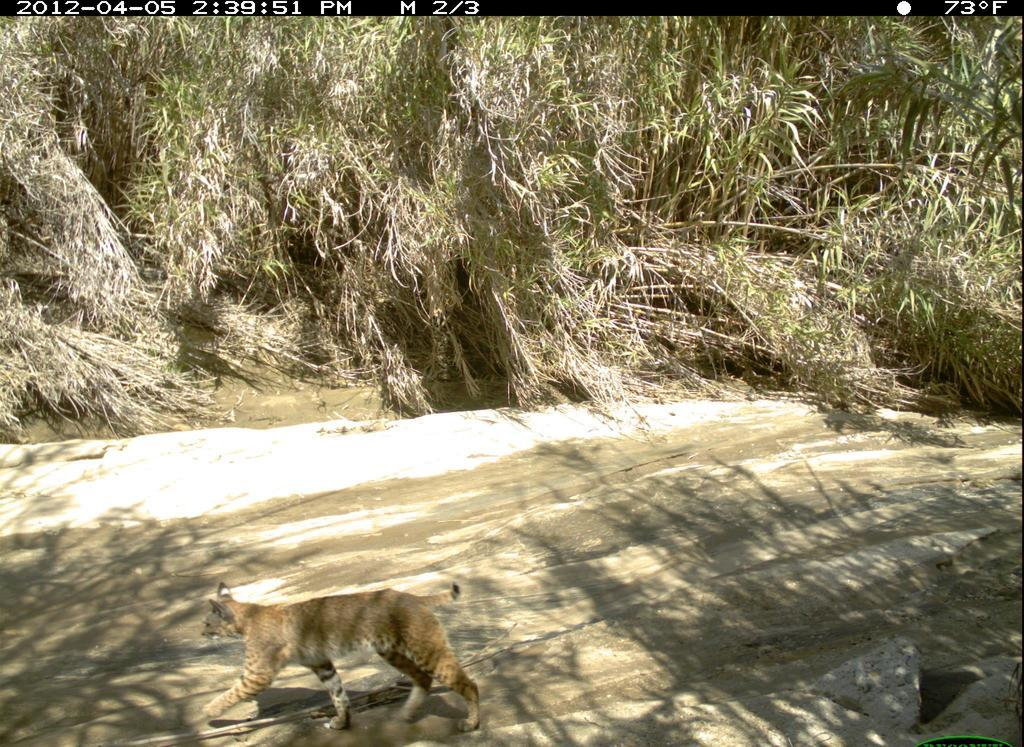bobcat: (196, 570, 492, 739)
